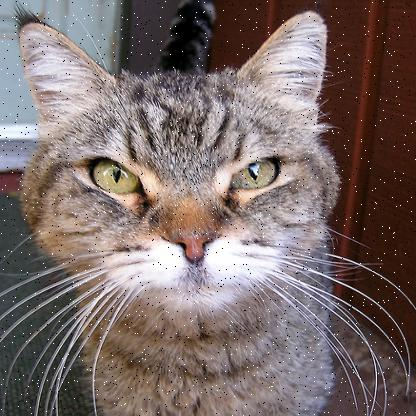cat: (16, 5, 352, 415)
